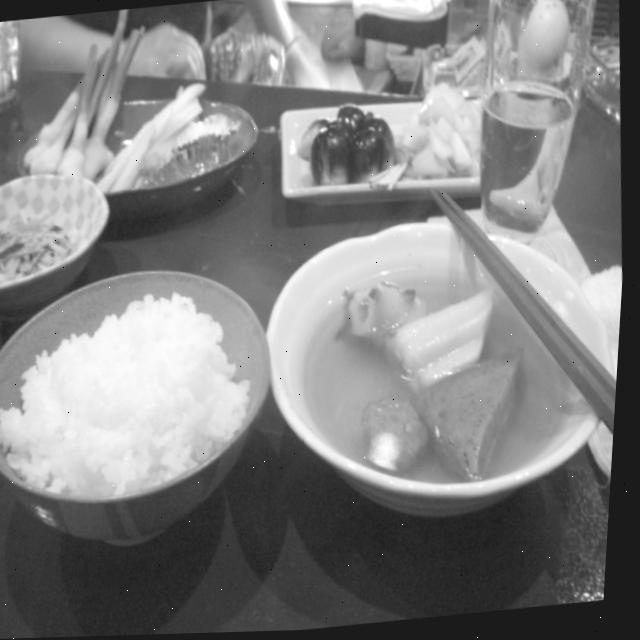汤锅炖物: (326, 255, 544, 501)
